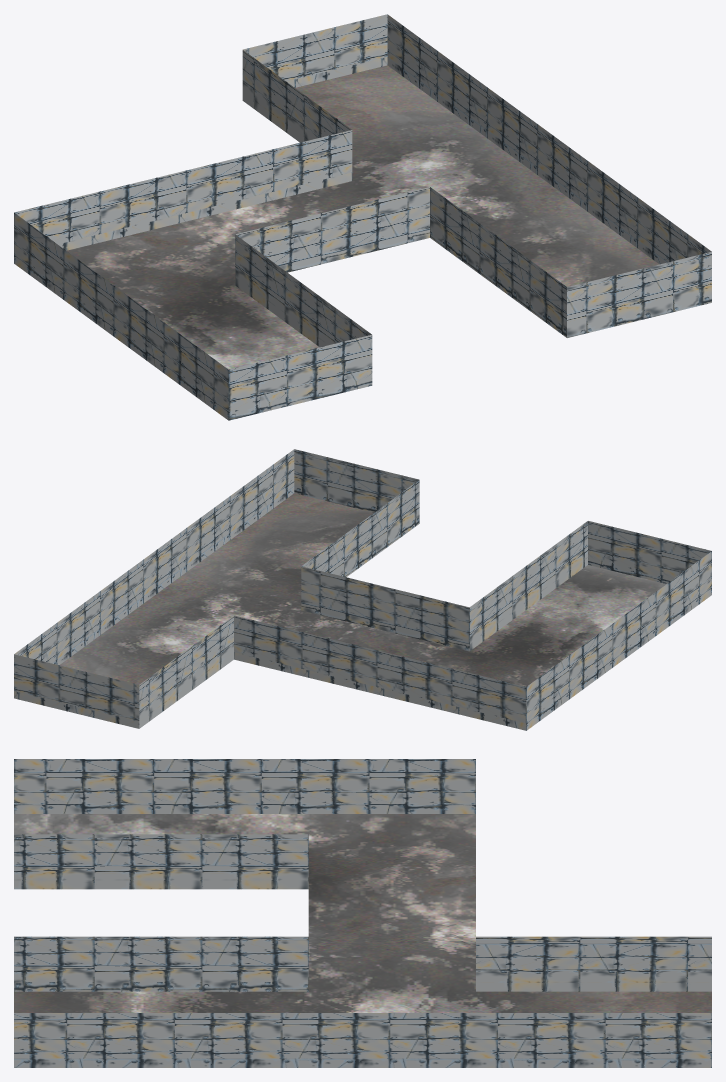
File: LevelFrequency.fbx
3 renders of one model, top to bottom at view 1: azimuth 30°, elevation 25°; view 2: azimuth 150°, elevation 25°; view 3: azimuth 270°, elevation 25°, orthographic. The views are drawn at different scales.
Visible parts, largest first — view 1: pCube1; view 2: pCube1; view 3: pCube1.
Boxes of the visible parts, x1,y1,x2,y2 form: pCube1: (14, 14, 711, 420); pCube1: (14, 449, 711, 730); pCube1: (14, 759, 711, 1067).
Bounding box in the file's own units: 29.05 × 2.93 × 33.78.
Materials: 2 (2 with a texture image).
